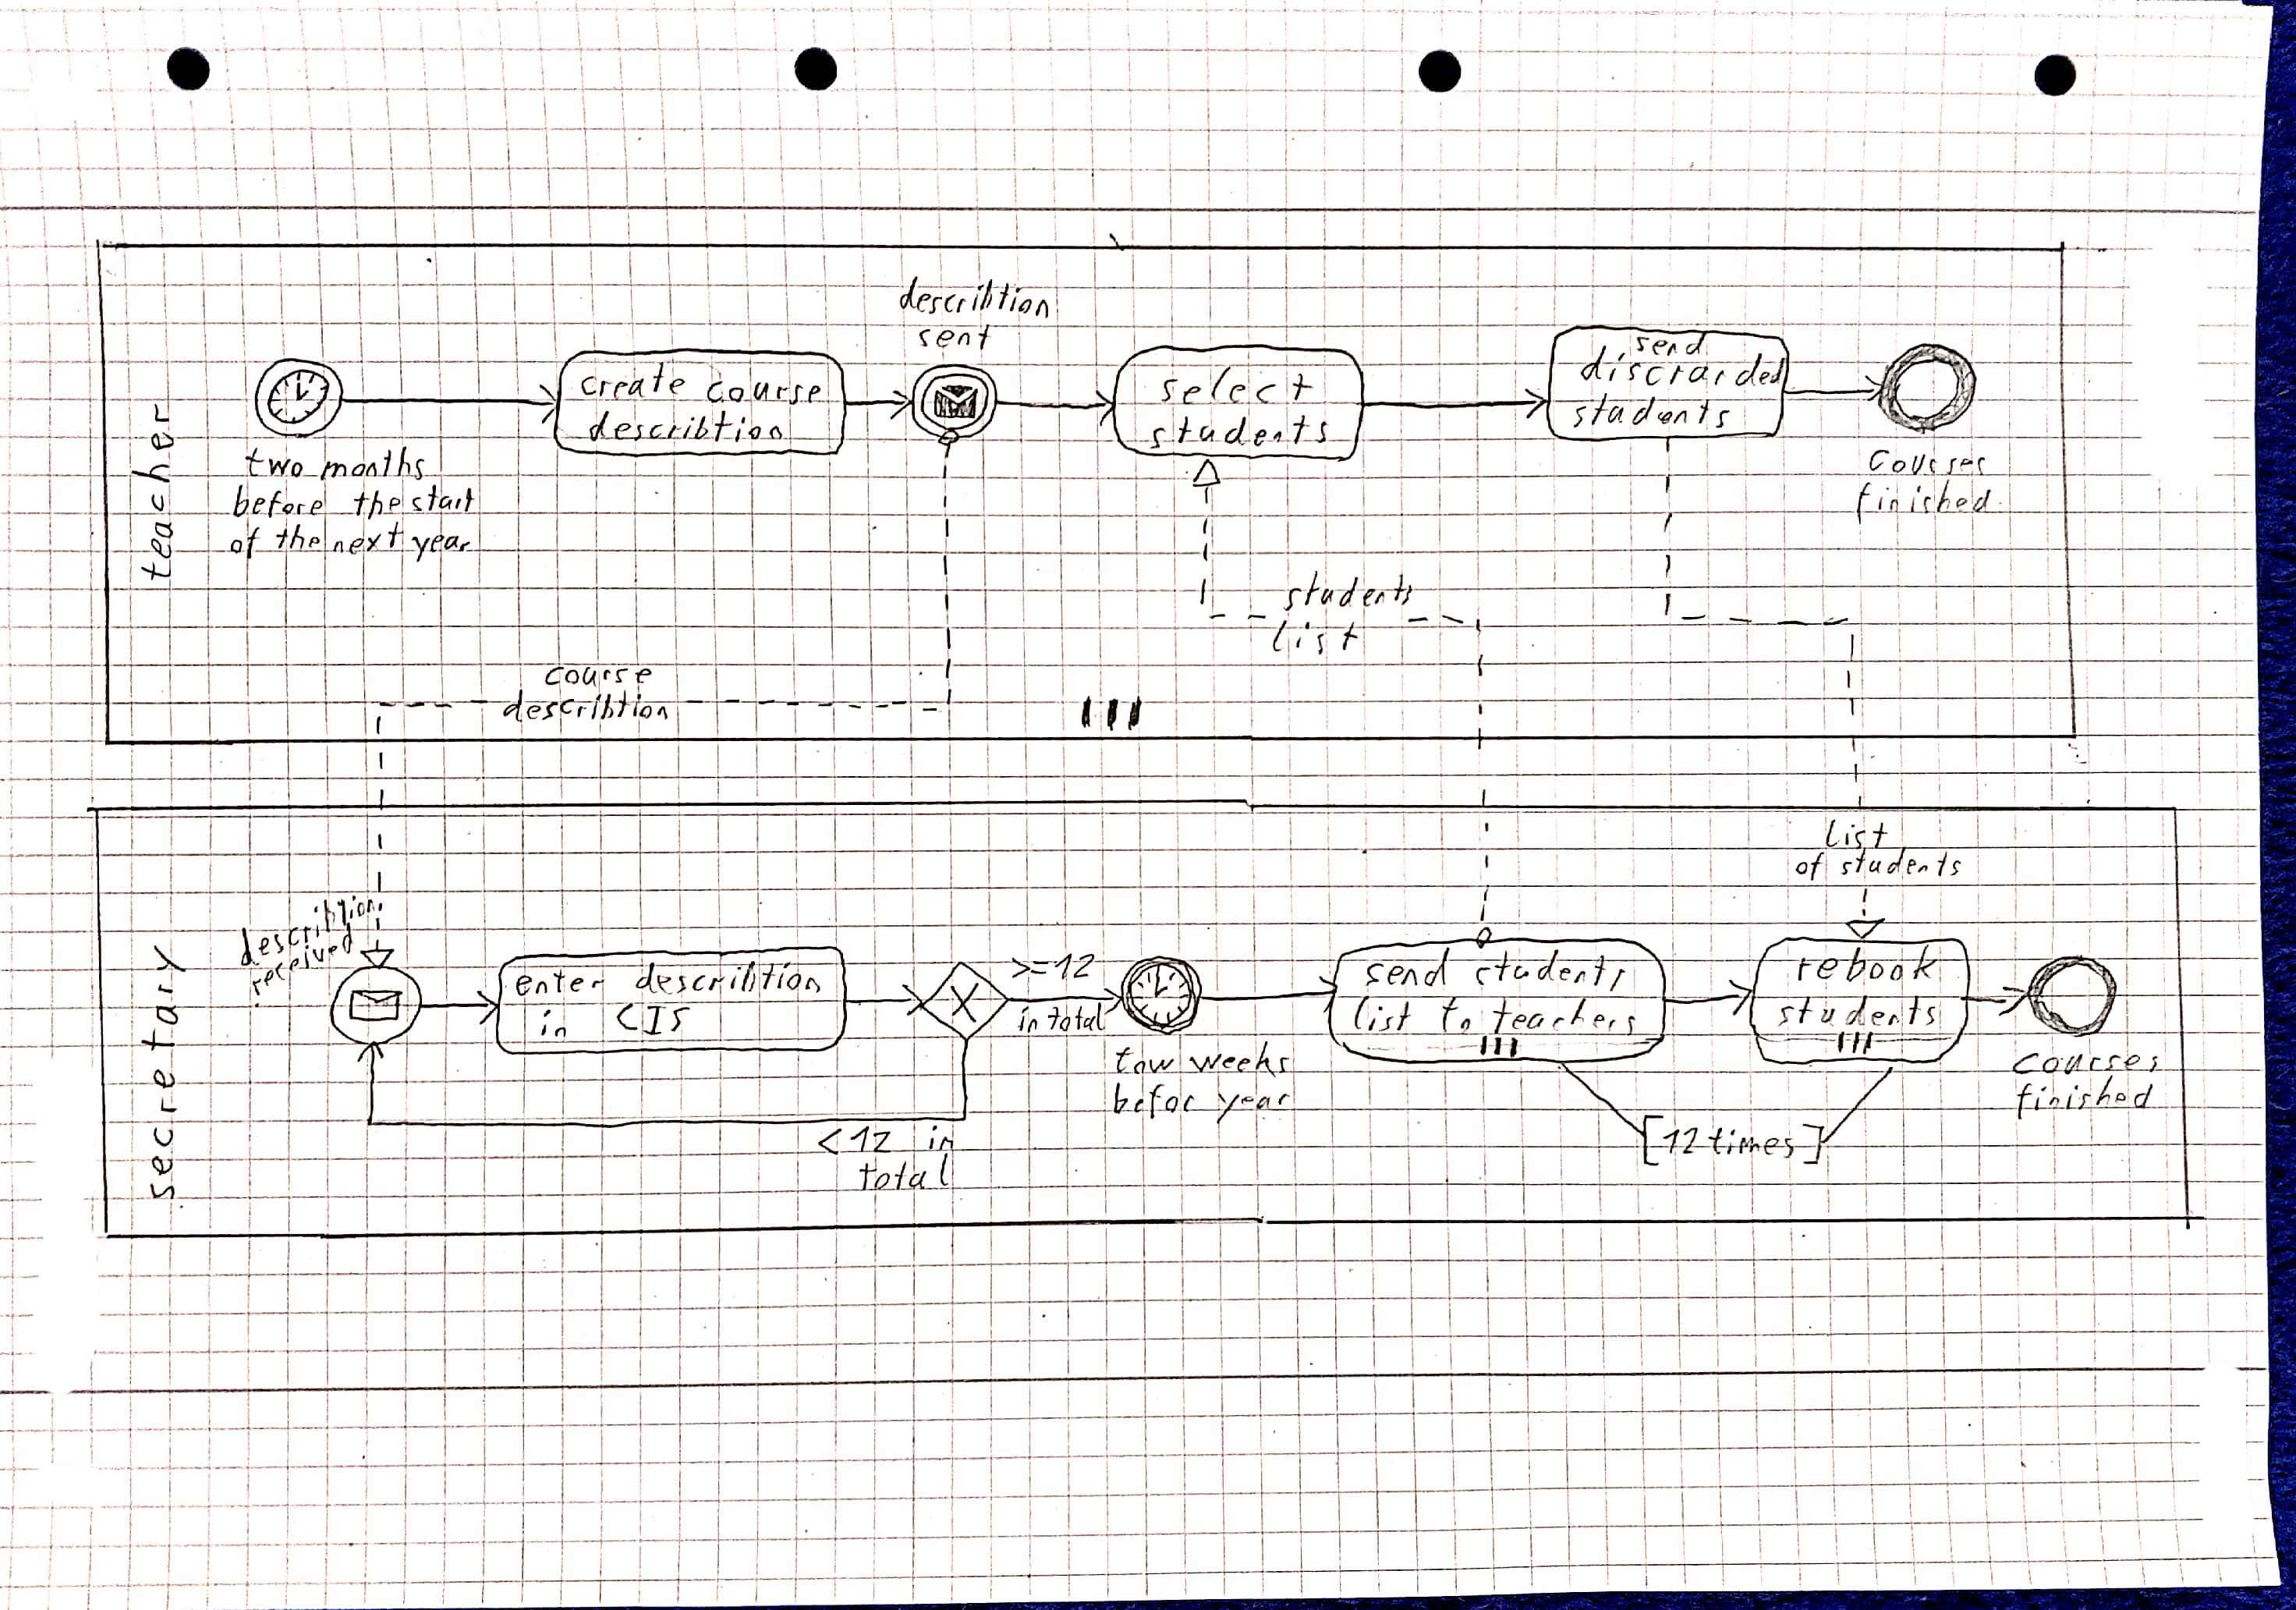12: (1661, 1125, 1703, 1156), (1054, 952, 1099, 980)
<12: (817, 1123, 902, 1157)
CIS: (615, 1002, 688, 1037)
III: (1079, 698, 1146, 732), (1834, 1029, 1879, 1054), (1478, 1034, 1520, 1059)
List: (1268, 618, 1361, 656), (1823, 822, 1891, 850)
befor: (1111, 1079, 1199, 1121)
before: (231, 484, 326, 519)
course: (544, 664, 654, 686), (705, 381, 824, 403)
courses: (2011, 1052, 2162, 1076), (1866, 449, 1988, 477)
create: (579, 363, 689, 401)
describtion: (635, 961, 824, 997), (587, 410, 787, 441), (502, 689, 669, 723)
description: (225, 936, 376, 981), (900, 275, 1052, 316)
discrarded: (1580, 344, 1788, 385)
enter: (514, 969, 609, 997)
finished: (2014, 1075, 2154, 1121), (1855, 479, 1992, 526)
in: (538, 1008, 570, 1039), (925, 1125, 958, 1152), (1015, 1003, 1041, 1033)
list: (1351, 995, 1416, 1034)
months: (317, 446, 428, 483)
next: (328, 530, 407, 559)
of: (227, 527, 263, 562), (1794, 851, 1828, 882)
rebook: (1795, 945, 1943, 984)
received: (241, 966, 362, 1002)
secretary: (143, 945, 184, 1202)
select: (1160, 366, 1316, 406)
send: (1363, 947, 1453, 988), (1634, 332, 1710, 358)
sent: (918, 322, 993, 349)
start: (409, 484, 477, 515)
students: (1568, 392, 1734, 431), (1146, 418, 1333, 452), (1774, 992, 1941, 1029), (1474, 947, 1627, 988), (1279, 572, 1415, 614), (1839, 846, 1965, 878)
teacher: (130, 399, 175, 582)
teachers: (1490, 998, 1639, 1036)
the: (351, 485, 402, 518), (273, 520, 321, 552)
times: (1709, 1127, 1796, 1158)
to: (1437, 994, 1473, 1036)
total: (857, 1154, 954, 1191), (1044, 1002, 1108, 1033)
tow: (1113, 1044, 1178, 1076)
two: (242, 447, 308, 479)
weeks: (1189, 1037, 1291, 1071)
year: (1214, 1089, 1291, 1125), (412, 532, 474, 563)
